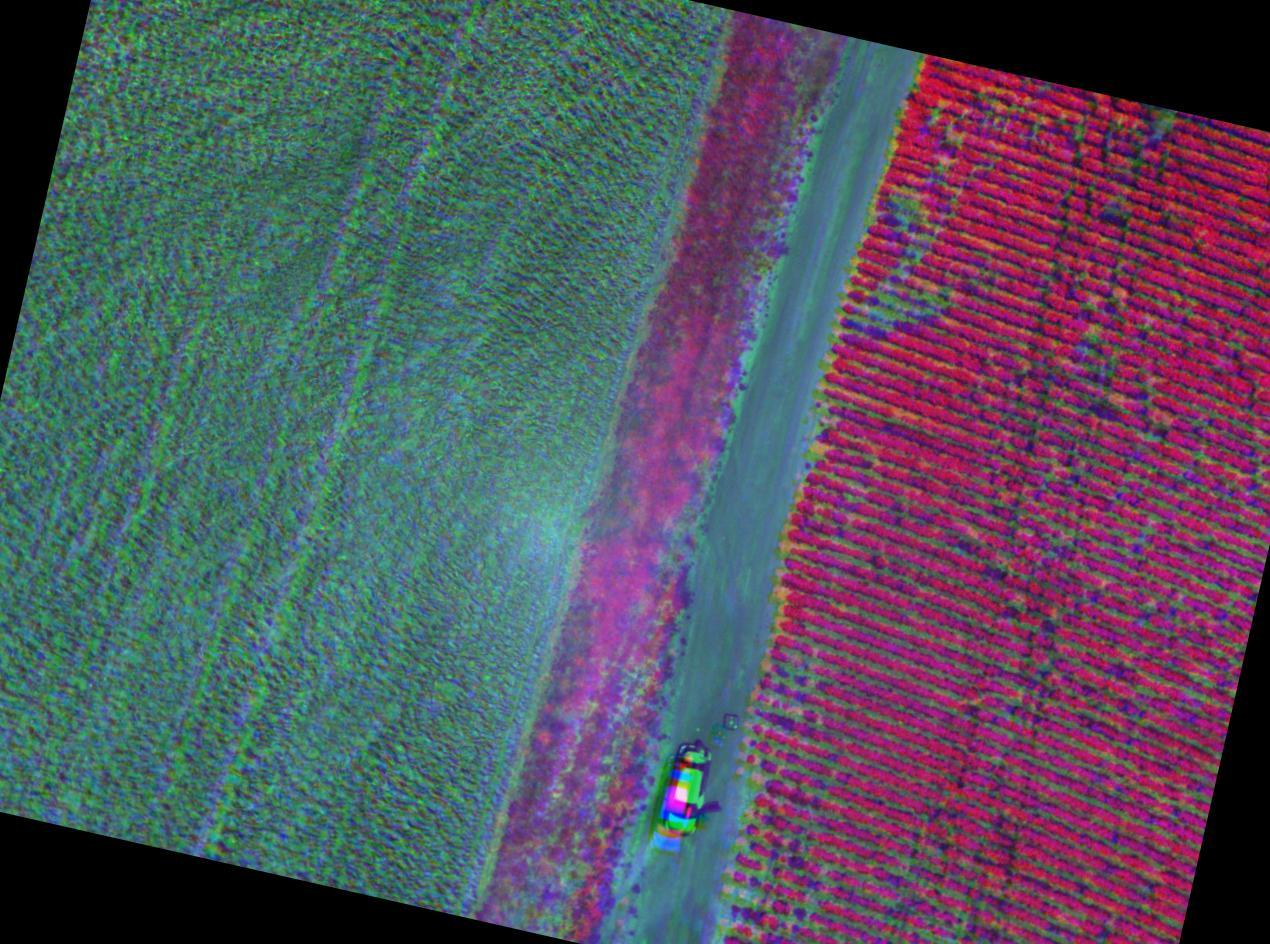dc: (858, 273, 938, 353), (727, 873, 803, 939), (891, 178, 957, 253), (744, 764, 800, 849), (774, 663, 832, 735)
